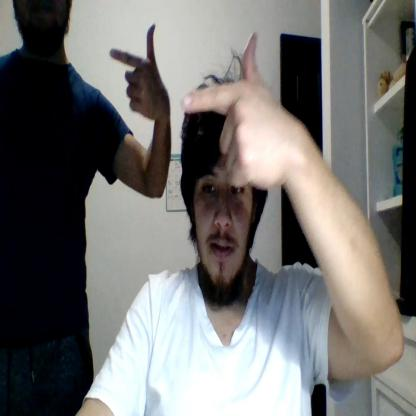G: (181, 32, 285, 187), (110, 23, 164, 120)
